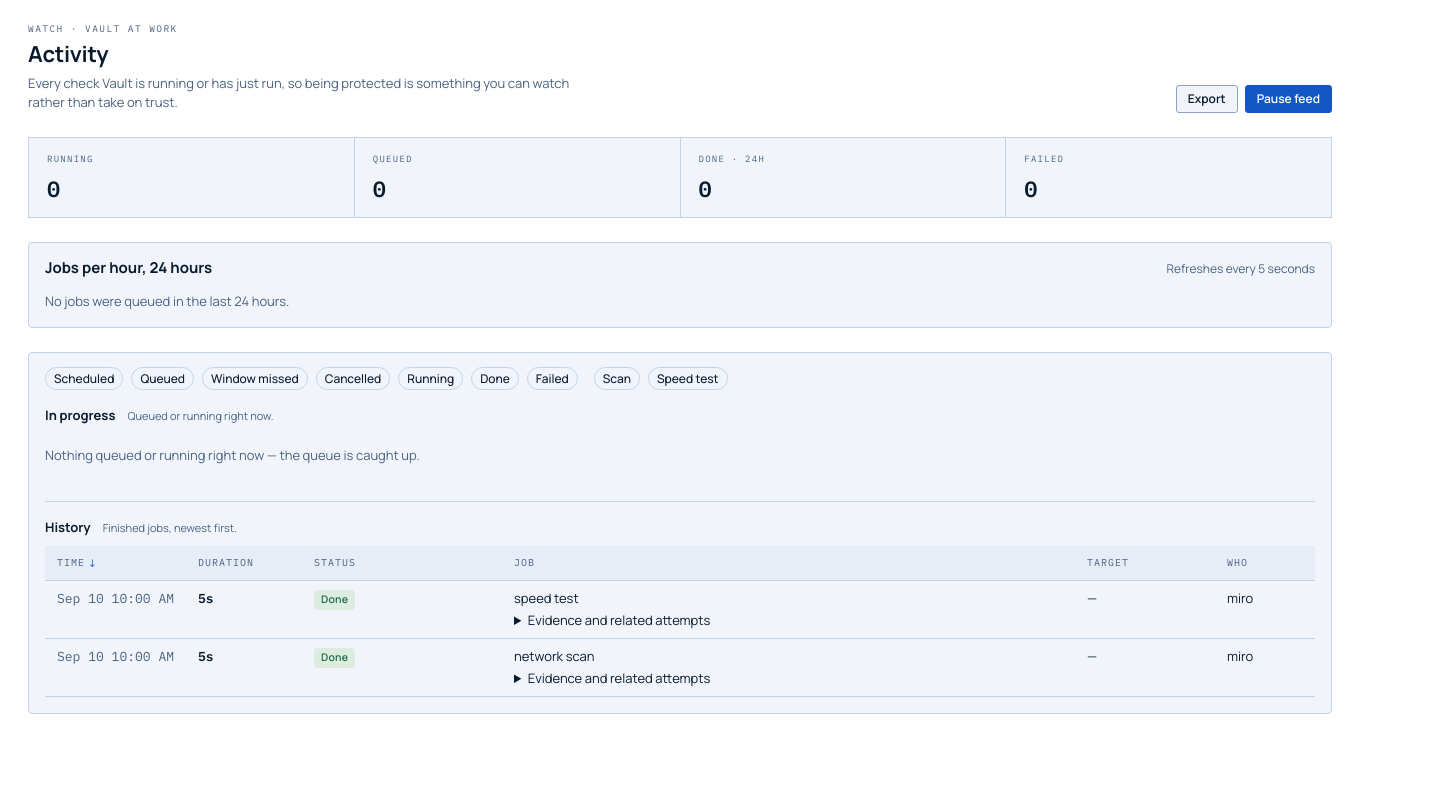
Test: Jobs / Activity page › filters by kind
expect the text "speed test" is shown: met, box [514,589,579,607]
Step 1. Click the button "Speed test" → (688, 378), box [648,367,728,390]
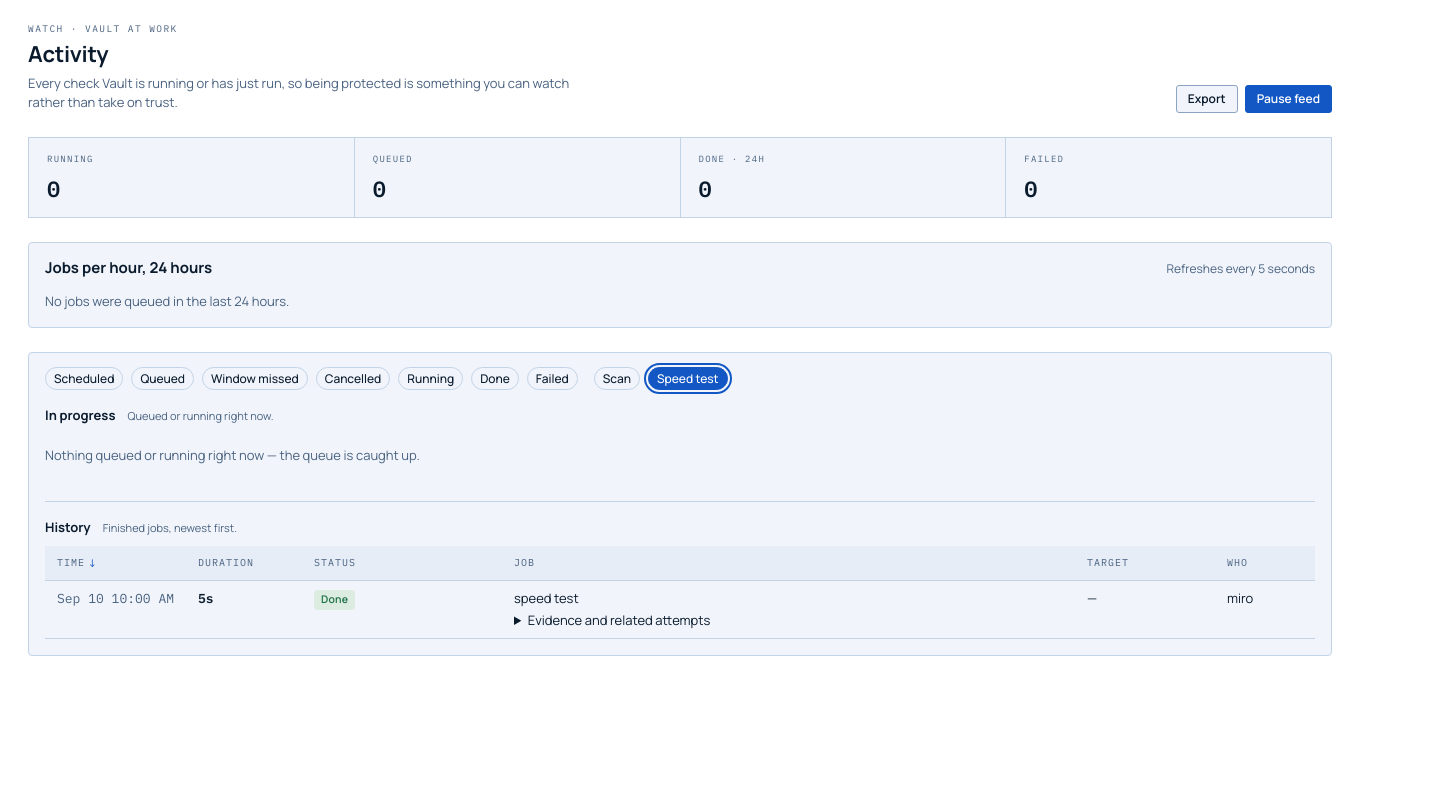
expect the text "speed test" is shown: met, box [514,589,579,607]
expect the text "network scan" is gone: met
